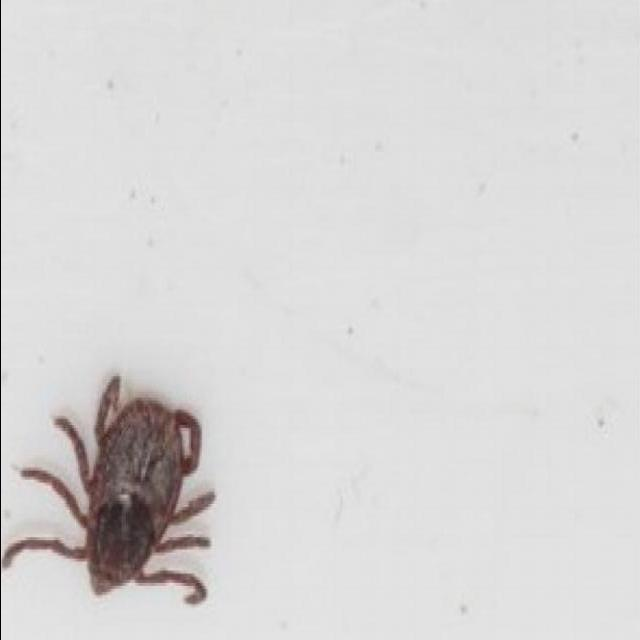Rhipicephalus Sanguineus-F: (0, 373, 217, 607)
